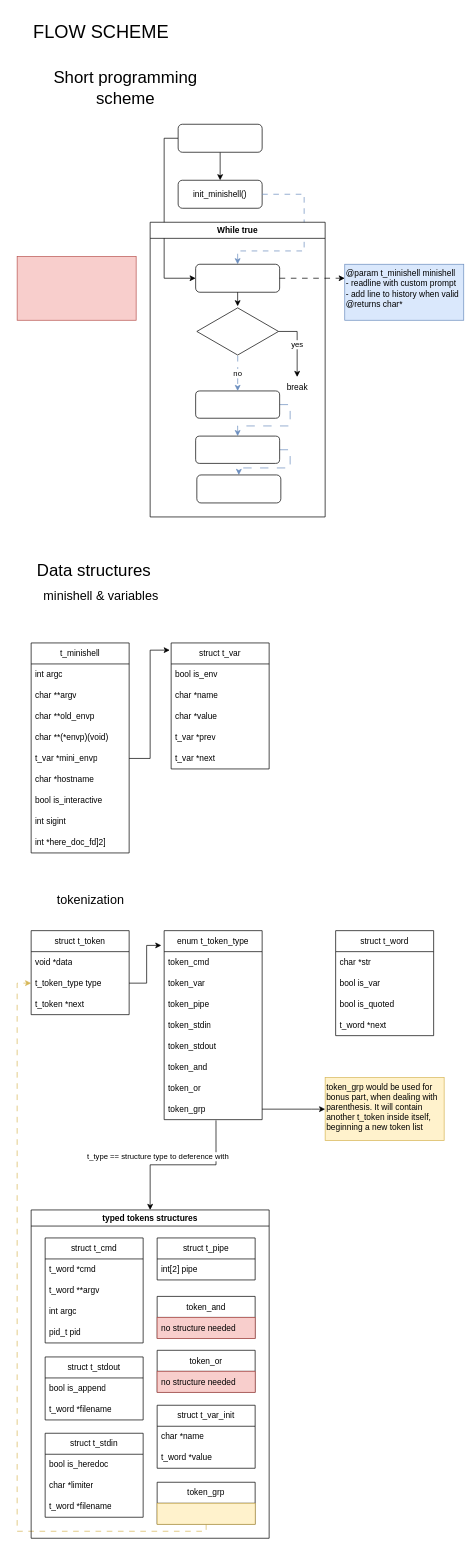
The diagram is 476 pixels wide and 1551 high, and some of its shapes have lost their labels. Here are the shapes that lost their labels. From the top down, the centre of each, then its label:
At pixel 219 138: "Main".
At pixel 76 288: "the short programming scheme may not be updated and relevant anymore".
At pixel 237 278: "prompt( t_minishell * )".
At pixel 237 331: "is prompt NULL ?".
At pixel 237 404: "lexer( t_minishell *, input )".
At pixel 237 449: "parsing( t_minishell *, lex )".
At pixel 238 488: "execute( t_token *tokens )".
At pixel 205 1513: "sruct t_token".
